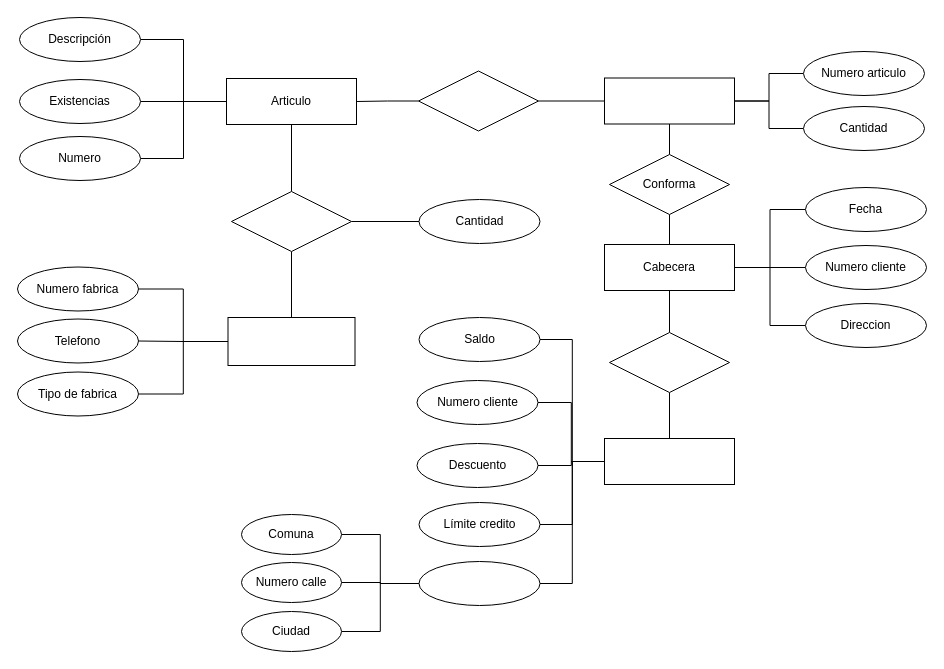
Image size: 944x669. Some labels were removed from this diagram. Here are the shapes that lost their labels. From the top down, the centre of each, then its label:
At point (478, 100): "Contiene".
At point (669, 100): "Cuerpo".
At point (291, 221): "Distribuye".
At point (291, 341): "Fabrica".
At point (669, 362): "Solicita".
At point (669, 461): "Cliente".
At point (479, 583): "Direcciones".
